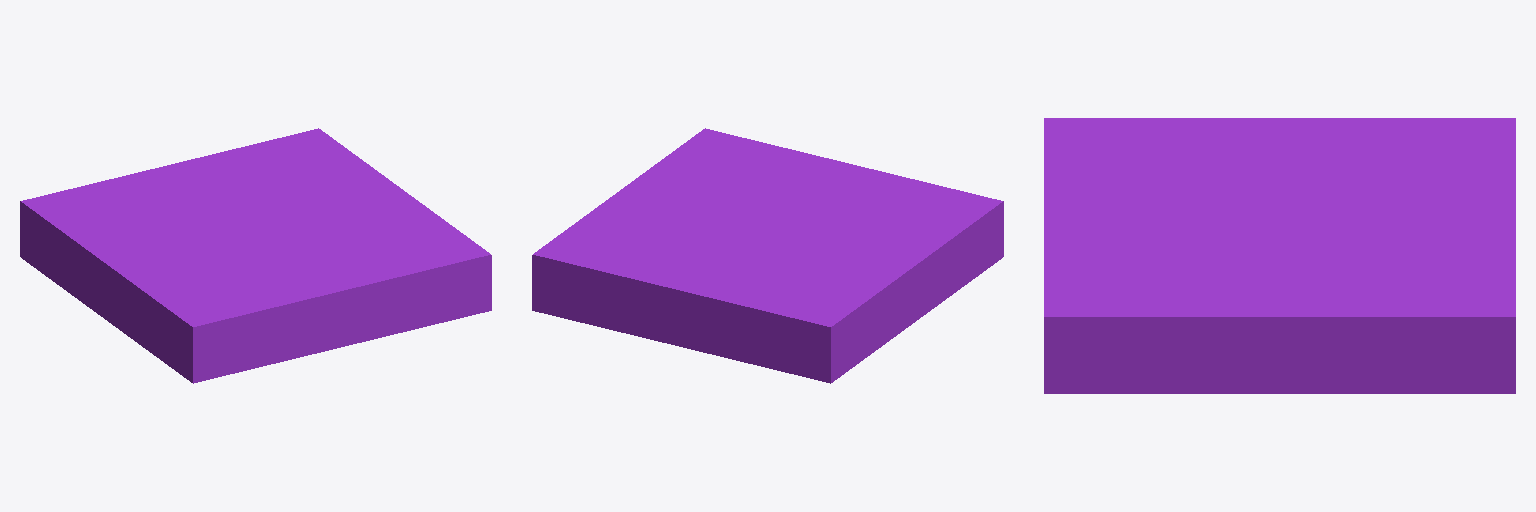
The robot description file, URDF, robot "multi_boxes":
<?xml version="1.0"?>
<robot name="multi_boxes">
  <!-- Note: Platform/ground boxes with large coordinates (-10 or 10) have been filtered out -->
  <link name="world"/>
  <!-- Box 1 -->
  <link name="multi_boxes_link">
    <visual>
      <origin xyz="0 0 0" rpy="0 0 0"/>
      <geometry>
        <mesh filename="box_models/box1.obj" scale="0.7415730337078652 0.7415730337078652 0.7415730337078652"/>
      </geometry>
      <material name="box1_material">
        <color rgba="0.3 0.7 0.9 0.5"/>
      </material>
    </visual>

    <collision name="multi_boxes">
      <origin xyz="0 0 0" rpy="0 0 0"/>
      <geometry>
        <mesh filename="box_models/box1.obj" scale="0.7415730337078652 0.7415730337078652 0.7415730337078652"/>
      </geometry>
    </collision>

    <inertial>
      <origin xyz="0 0 0" rpy="0 0 0"/>
      <mass value="33.33"/>
      <inertia ixx="33.33" ixy="0.0" ixz="0.0" iyy="33.33" iyz="0.0" izz="33.33"/>
    </inertial>
  </link>

  <!-- Box 2 -->
  <link name="box2_link">
    <visual>
      <origin xyz="0 0 0" rpy="0 0 0"/>
      <geometry>
        <mesh filename="box_models/box2.obj" scale="0.7415730337078652 0.7415730337078652 0.7415730337078652"/>
      </geometry>
      <material name="box2_material">
        <color rgba="0.7 0.3 0.9 0.5"/>
      </material>
    </visual>

    <collision name="box2">
      <origin xyz="0 0 0" rpy="0 0 0"/>
      <geometry>
        <mesh filename="box_models/box2.obj" scale="0.7415730337078652 0.7415730337078652 0.7415730337078652"/>
      </geometry>
    </collision>

    <inertial>
      <origin xyz="0 0 0" rpy="0 0 0"/>
      <mass value="33.33"/>
      <inertia ixx="33.33" ixy="0.0" ixz="0.0" iyy="33.33" iyz="0.0" izz="33.33"/>
    </inertial>
  </link>

  <!-- Fixed joint to world for Box 1 -->
  <joint name="world_to_multi_boxes" type="fixed">
    <parent link="world"/>
    <child link="multi_boxes_link"/>
    <origin xyz="0 0 0" rpy="0 0 0"/>
  </joint>

  <!-- Fixed joint to world for Box 2 -->
  <joint name="world_to_box2" type="fixed">
    <parent link="world"/>
    <child link="box2_link"/>
    <origin xyz="0 0 0" rpy="0 0 0"/>
  </joint>

</robot>

--- What the picture shows (computed from the rendered views, not written in the file) ---
The picture shows the robot from 3 angles, left to right: view 1: azimuth 30°, elevation 25°; view 2: azimuth 150°, elevation 25°; view 3: azimuth 270°, elevation 25°; orthographic projection.
Model multi_boxes with 3 links and 2 joints (2 fixed), rooted at world, posed all joints at 0.
Visible links, largest first — view 1: box2_link; view 2: box2_link; view 3: box2_link.
Boxes of the visible links, left/top/right/bottom form: box2_link: left=20, top=128, right=491, bottom=383; box2_link: left=532, top=128, right=1003, bottom=383; box2_link: left=1044, top=118, right=1515, bottom=393.
Size in the robot's own frame: 0.7416 by 0.7416 by 0.1335 metres.
Meshes: 2 distinct files referenced, 1 mesh visuals loaded (1 OBJ); not drawn: 1 (reference not matched to a file when rendering).